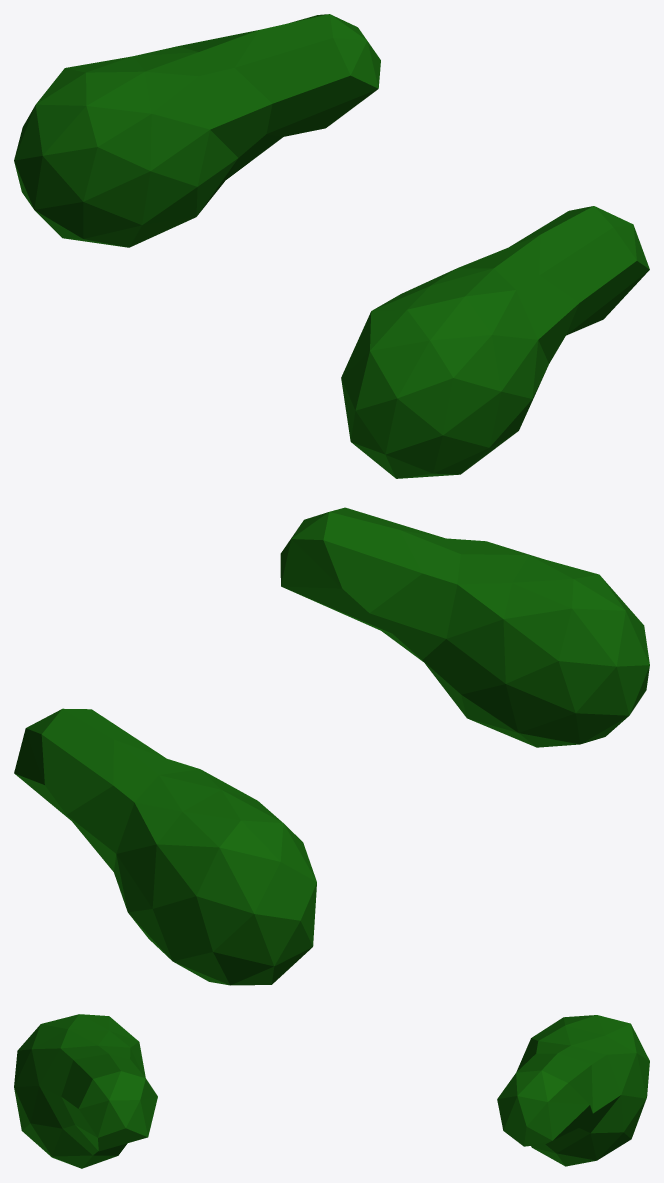
File: TurtleLegs.fbx
3 renders of one model, top to bottom at view 1: azimuth 30°, elevation 25°; view 2: azimuth 150°, elevation 25°; view 3: azimuth 270°, elevation 25°, orthographic. The views are drawn at different scales.
Visible parts, largest first — view 1: Icosphere.004; view 2: Icosphere.004; view 3: Icosphere.004.
Part boxes in pixels (box(x1,y1,x2,y2)): Icosphere.004: box(14, 14, 649, 478); Icosphere.004: box(14, 507, 649, 985); Icosphere.004: box(14, 1014, 649, 1168).
Bounding box in the file's own units: 207 × 122 × 444.
